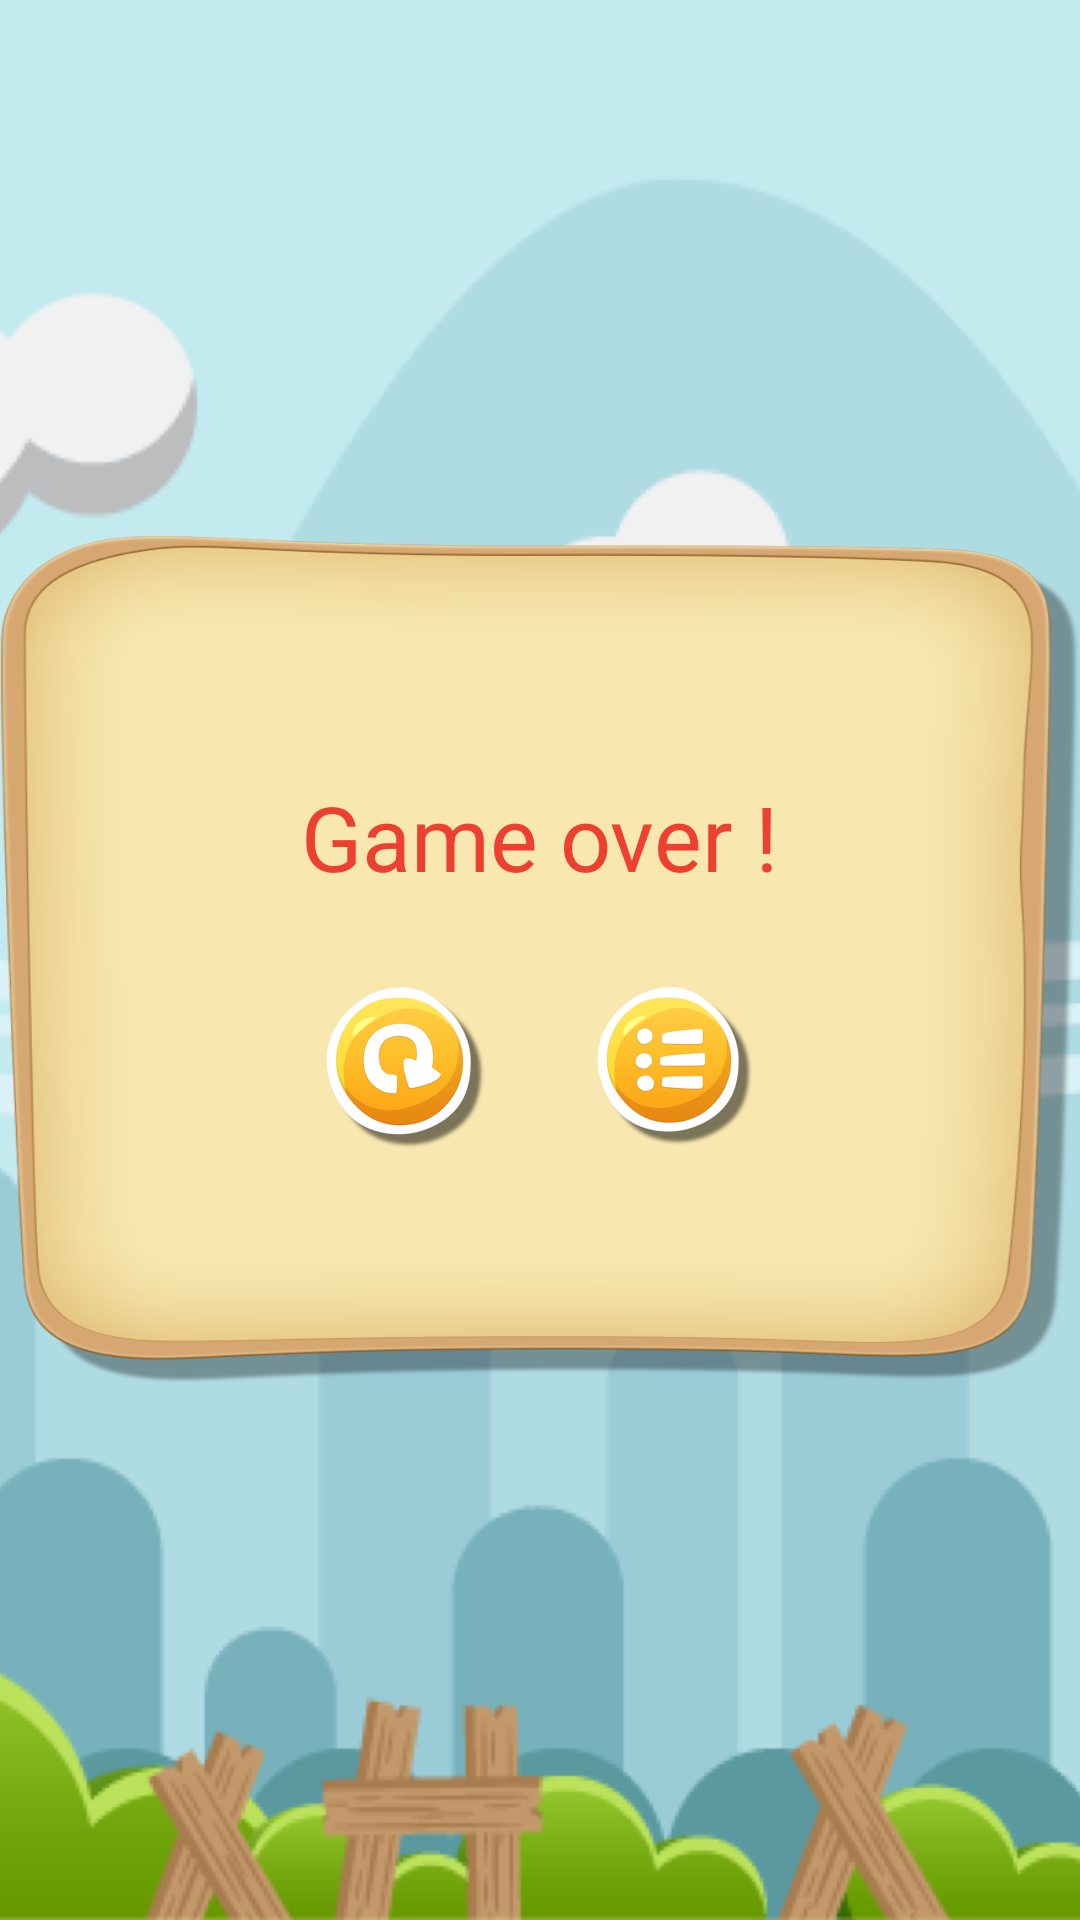

Screen size 1080 × 1920. Icon name, then its center in pixels as (x=x, y=y):
menu: (x=673, y=1065)
restart: (x=404, y=1066)
